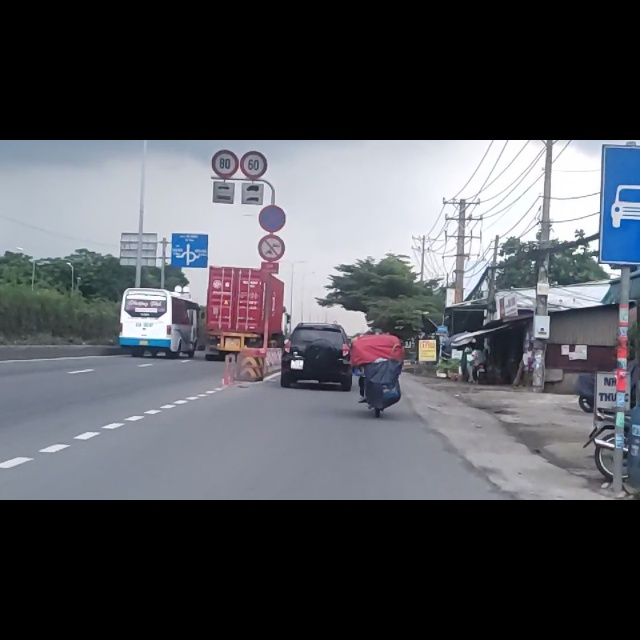bien_chi_dan: (257, 115, 287, 164), (211, 17, 239, 68), (241, 18, 268, 69), (259, 168, 286, 216)
